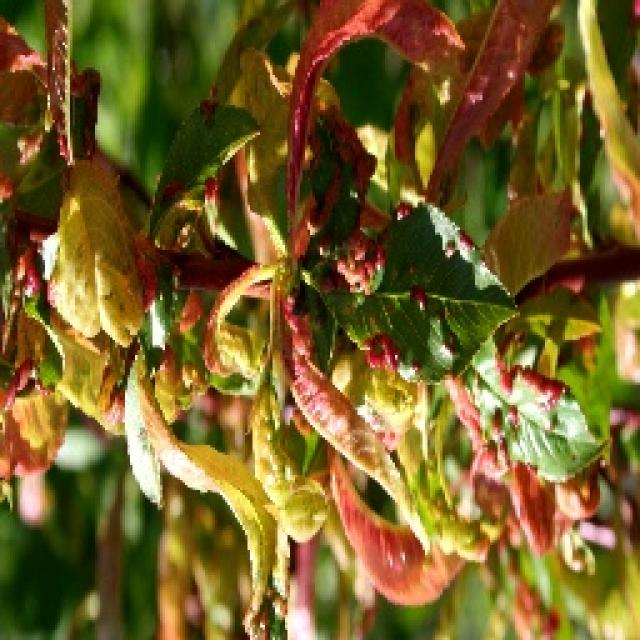Chlorosis: (0, 0, 638, 638)
peach_leaf_curl: (280, 0, 468, 248)
